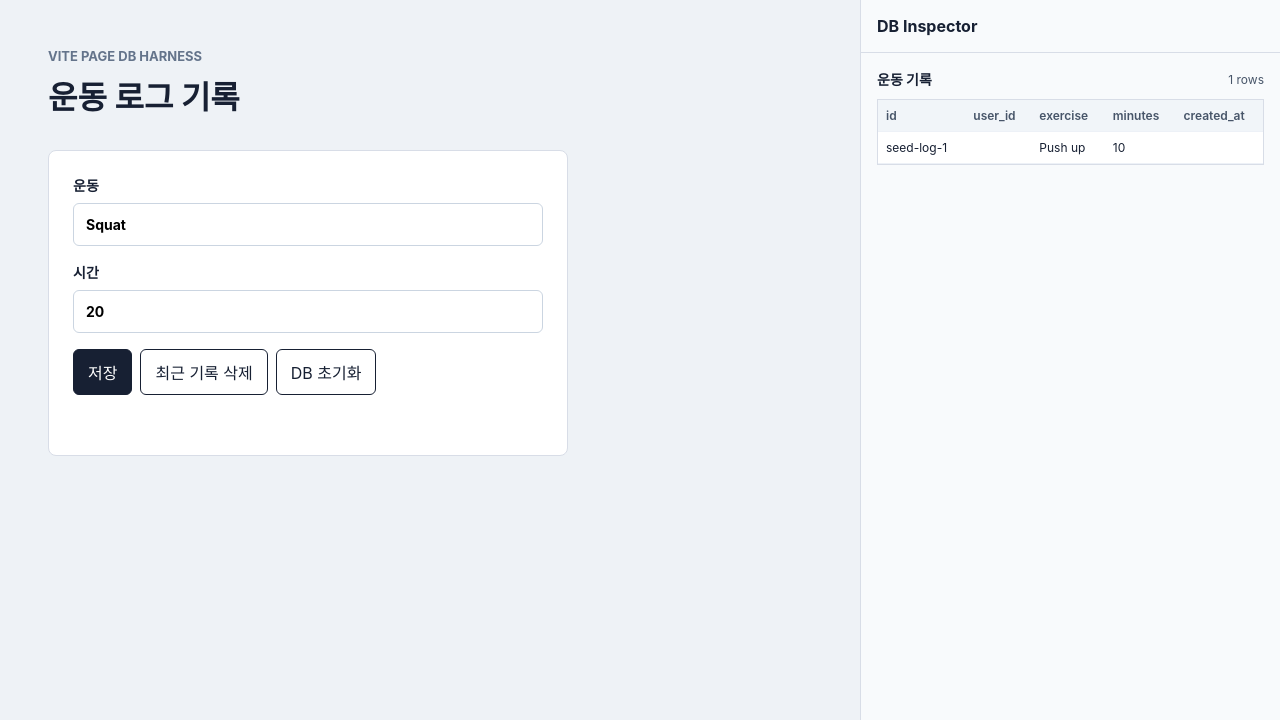
App › shows a save failure when the workout log request cannot reach the backend
Check: the text "Push up" is shown, box 1031,132 -> 1105,164
Click the button "저장" at (103, 372), box 73,349 -> 132,395
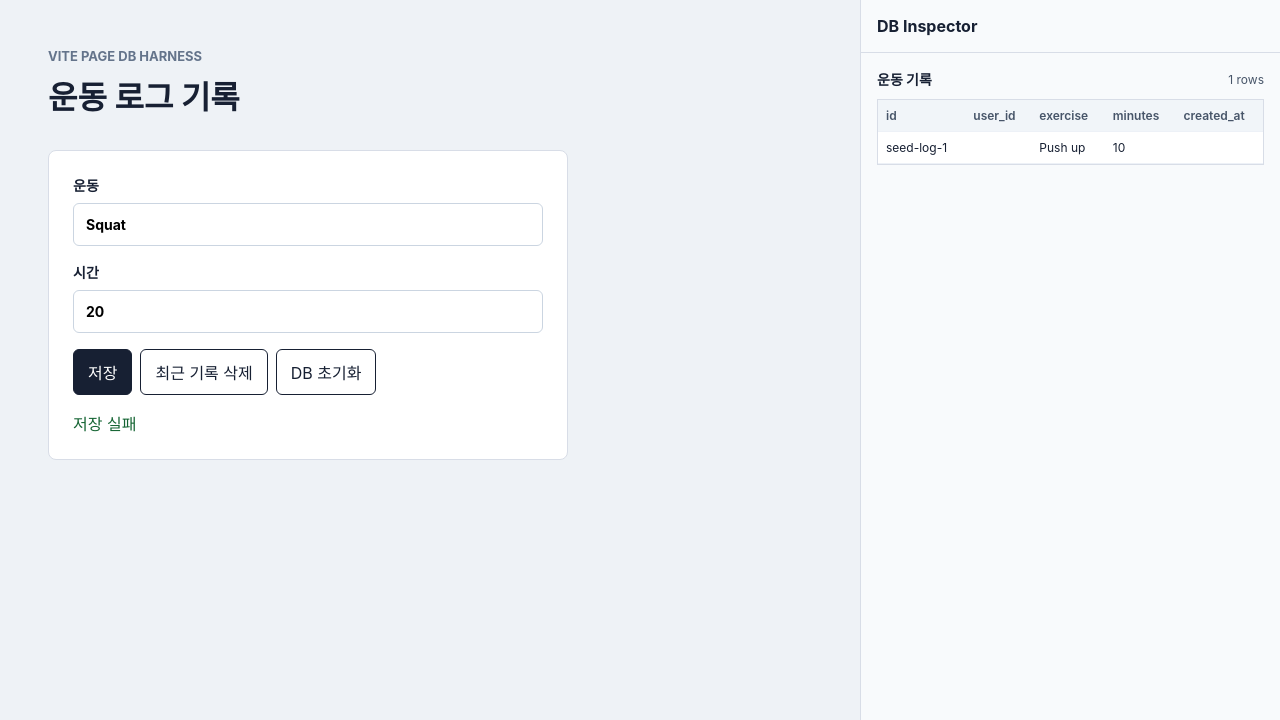
Check: the text "Push up" is shown, box 1031,132 -> 1105,164
Check: the text "저장 실패" is shown, box 73,414 -> 136,434
